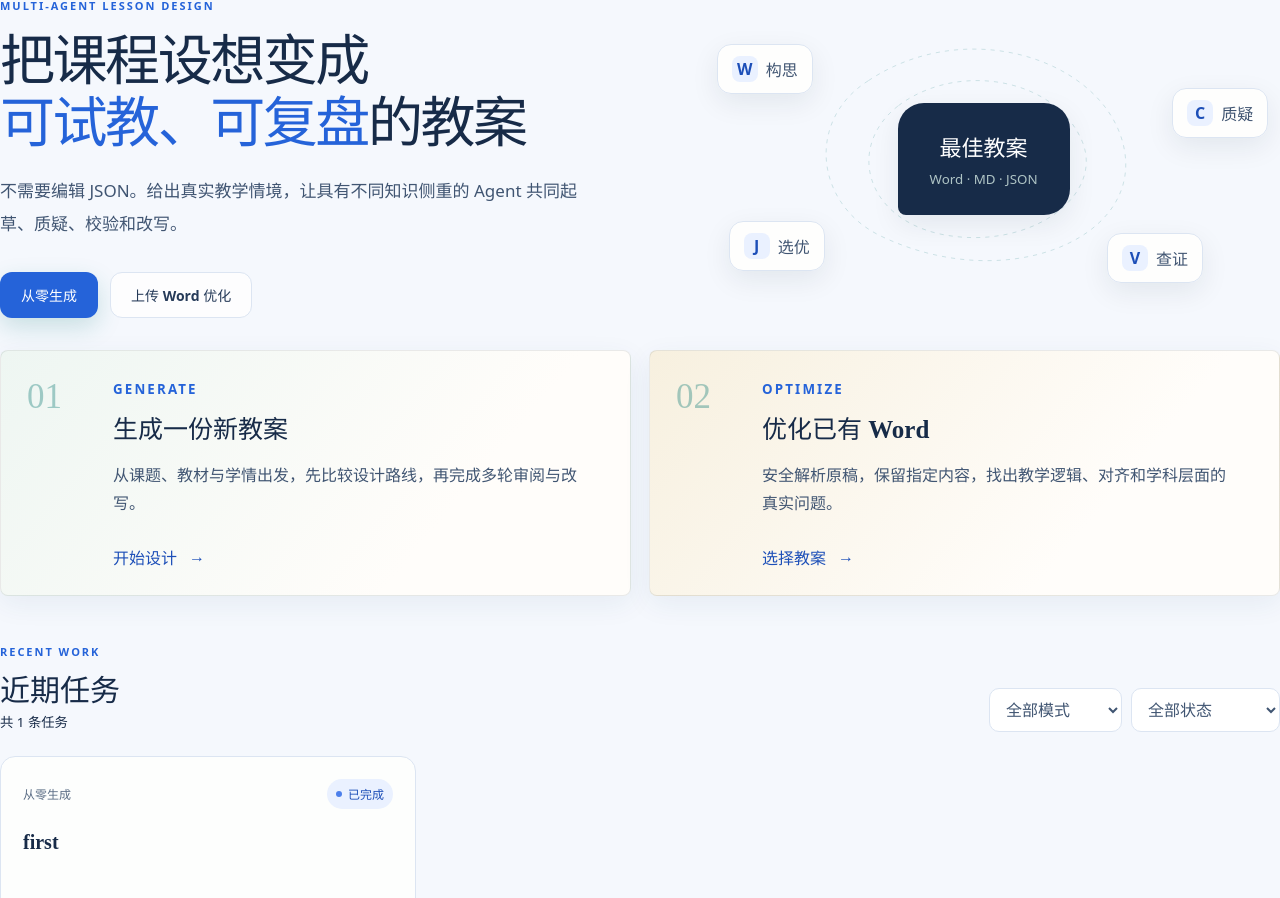
dashboard recent jobs › sends changed filters to the backend and shows the returned total
The width and height of the screenshot is (1280, 898).
Select "优化" in the dropdown named "按模式筛选" at (1056, 710), box [989, 688, 1122, 732]
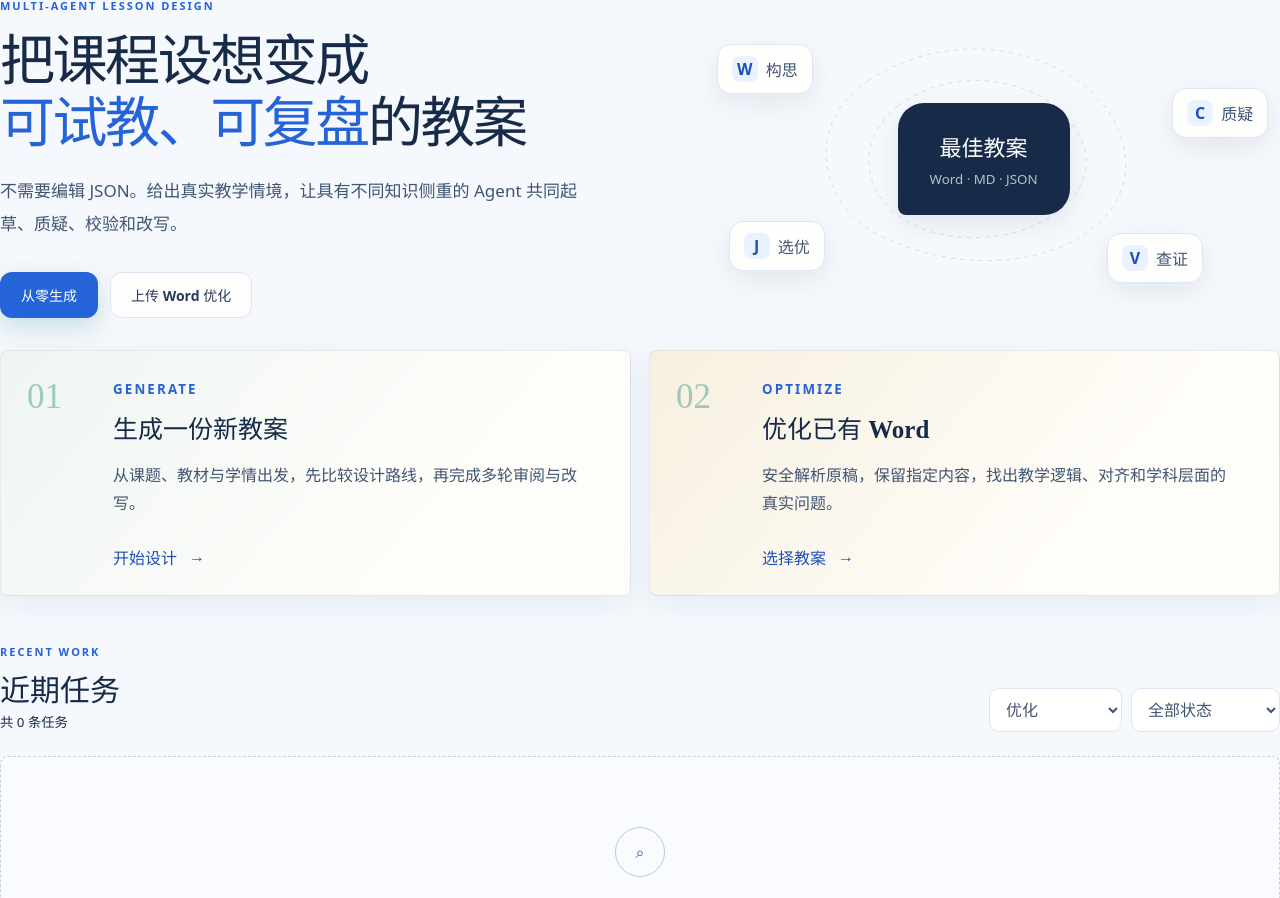
Expected: the text "共 0 条任务" is shown, [0, 713, 68, 731]
